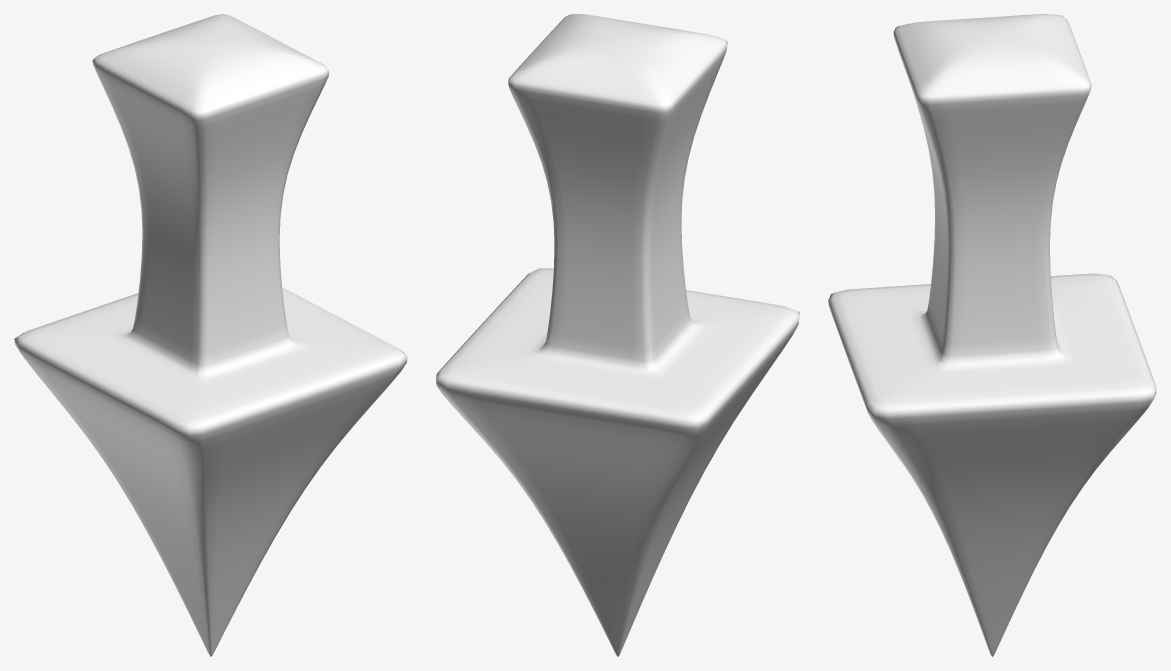
Rendered from arrow.obj.
The picture shows the model from 3 angles, left to right: view 1: azimuth 30°, elevation 25°; view 2: azimuth 150°, elevation 25°; view 3: azimuth 270°, elevation 25°; orthographic projection.
Visible parts, largest first — view 1: objMesh; view 2: objMesh; view 3: objMesh.
Part boxes in pixels (x1,y1,x2,y2): objMesh: (14, 14, 407, 656); objMesh: (436, 14, 799, 656); objMesh: (828, 14, 1156, 656).
Size of the model in its own units: 4.18 by 8.72 by 4.18.
1 material, 1 textured.
